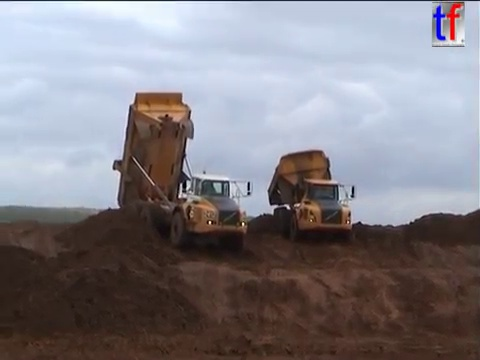truck: (110, 89, 255, 254), (265, 147, 357, 245)
